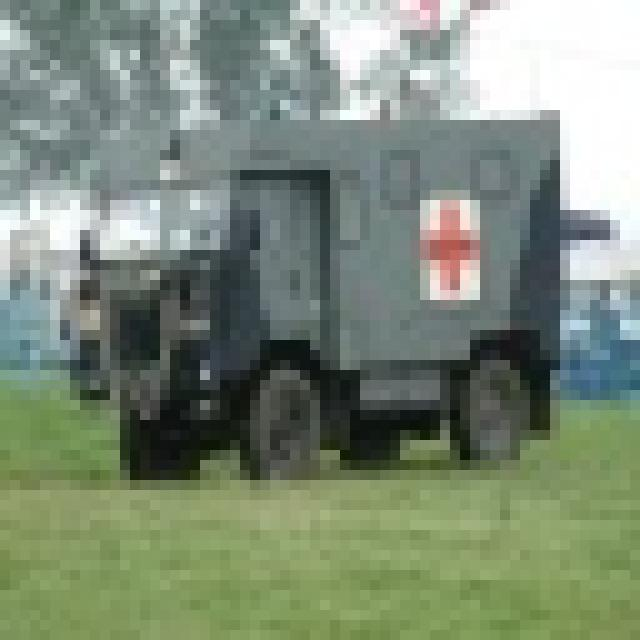Ambulance: (60, 100, 610, 480)
